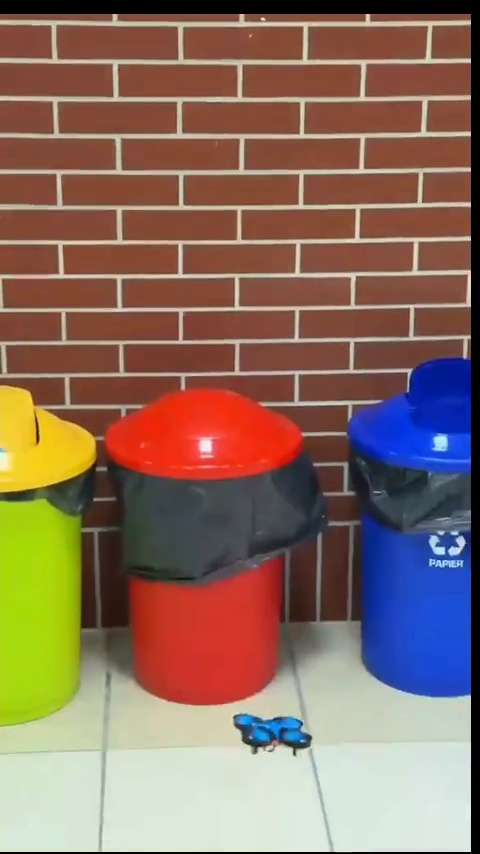drone: (233, 712, 305, 757)
